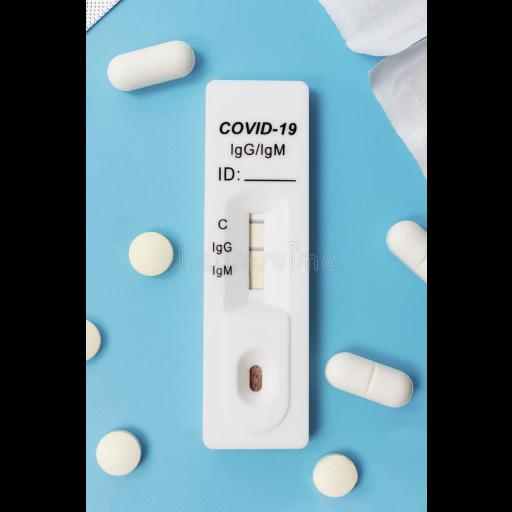Pos: (202, 77, 308, 447)
